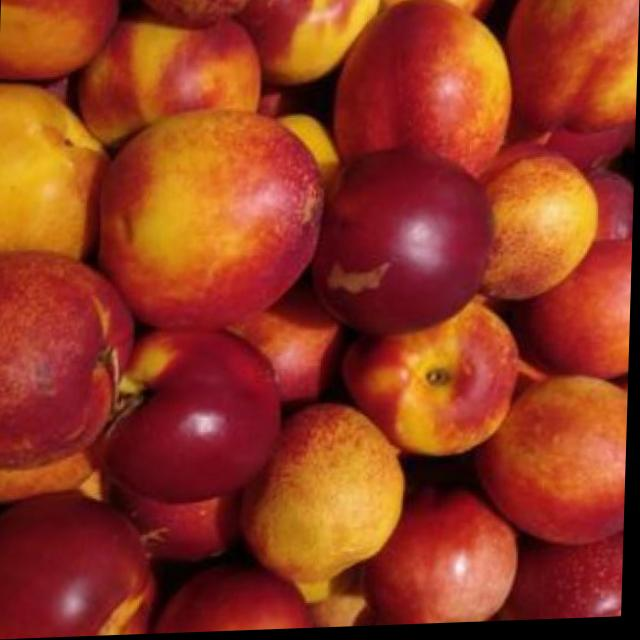Nectarine: (98, 109, 328, 327), (334, 0, 513, 188), (316, 155, 493, 338), (112, 320, 282, 508), (239, 413, 409, 590), (342, 295, 522, 462), (0, 254, 136, 474), (488, 374, 630, 548), (0, 495, 156, 640), (510, 0, 640, 140), (527, 246, 634, 386)
